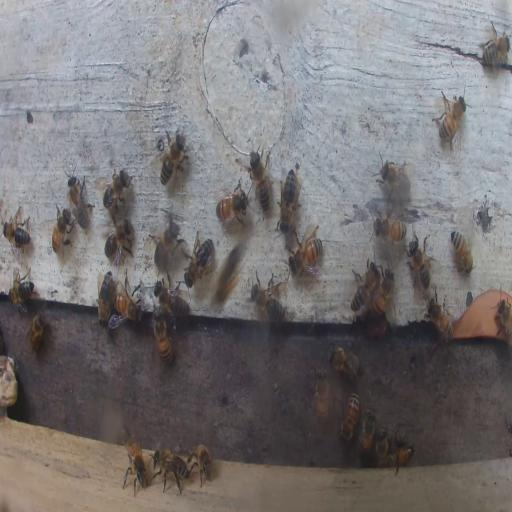nonpollenbee: (432, 88, 467, 153), (405, 229, 435, 294), (120, 431, 148, 495), (348, 258, 378, 317), (153, 210, 183, 269), (247, 145, 273, 212), (277, 165, 302, 234), (424, 294, 454, 350), (184, 231, 215, 285), (250, 274, 286, 320), (159, 129, 188, 185), (104, 218, 136, 266), (154, 450, 188, 495), (478, 21, 510, 68), (66, 167, 90, 229), (374, 155, 409, 197), (290, 233, 322, 278), (215, 184, 248, 226), (102, 166, 132, 212), (156, 279, 190, 319), (186, 441, 214, 487), (113, 280, 142, 322), (338, 390, 360, 444), (327, 345, 361, 379), (51, 204, 74, 254), (449, 228, 474, 274), (372, 266, 394, 317), (153, 312, 174, 365), (10, 268, 35, 307), (96, 272, 114, 324), (358, 408, 376, 458), (27, 308, 46, 355), (314, 370, 330, 422), (374, 216, 407, 240), (2, 218, 30, 244), (494, 298, 512, 338), (376, 425, 390, 466), (392, 445, 414, 469)
pollenbee: (215, 240, 243, 311)
